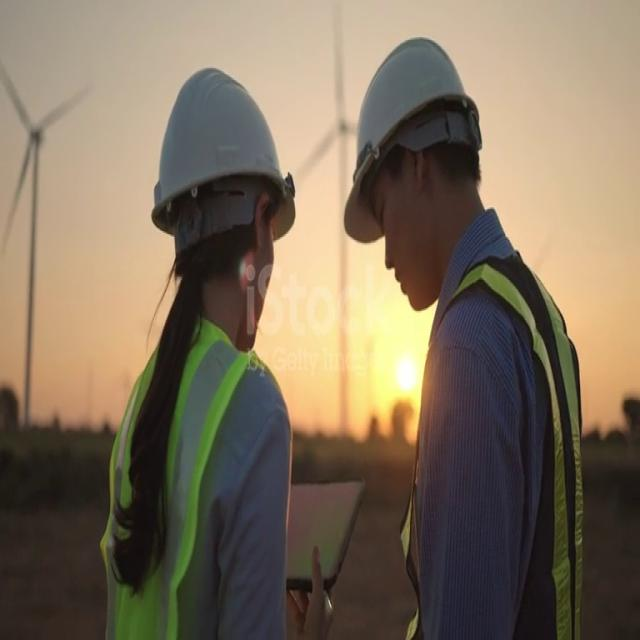capacete: (140, 56, 308, 258), (341, 34, 494, 254)
